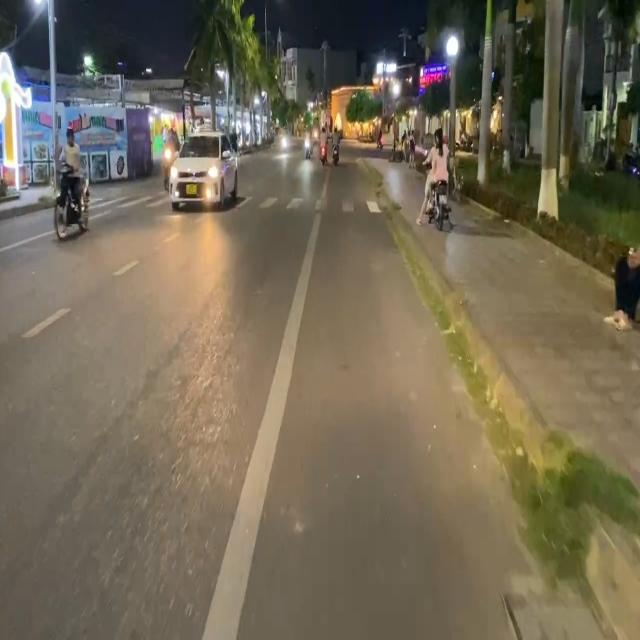walk-crossing: (237, 190, 384, 217), (99, 190, 168, 210)
